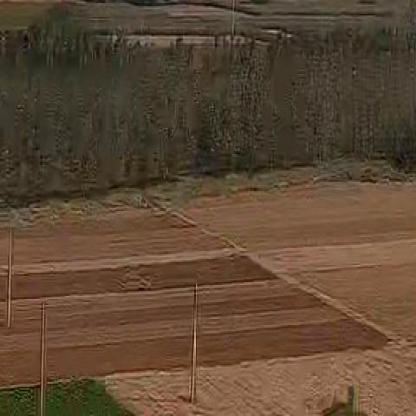other: (115, 190, 384, 372)
